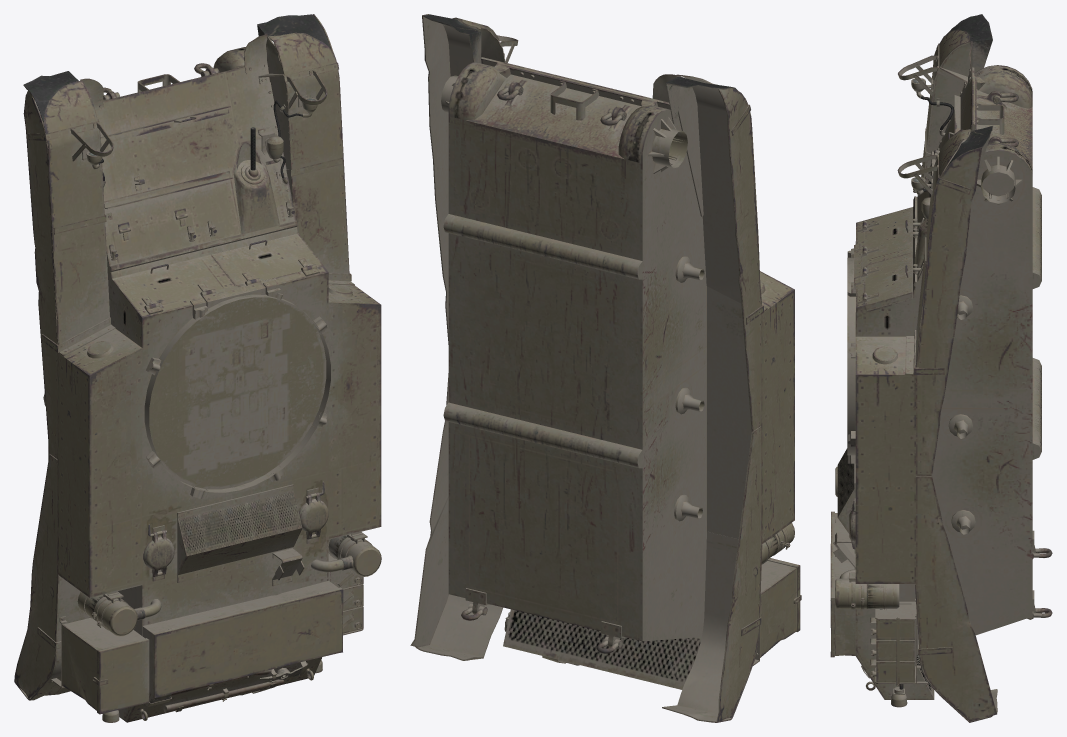
File: Hull.glb
3 views of the same model, side by side, from view 1: azimuth 30°, elevation 25°; view 2: azimuth 150°, elevation 25°; view 3: azimuth 270°, elevation 25° (orthographic). The views are drawn at different scales.
Visible parts, largest first — view 1: set_0_group_0; view 2: set_0_group_0; view 3: set_0_group_0.
Part boxes in pixels (<box>): set_0_group_0: <box>14,14,381,722</box>; set_0_group_0: <box>410,14,801,722</box>; set_0_group_0: <box>830,14,1052,722</box>.
Bounding box in the file's own units: 2.28 × 4.59 × 1.57.
Materials: 1 (1 with a texture image).
